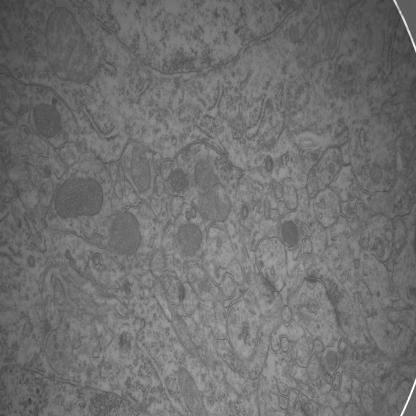mitochondria: (53, 177, 106, 218), (107, 212, 142, 257), (197, 185, 232, 224), (31, 102, 62, 137), (176, 221, 204, 258), (131, 144, 150, 192), (194, 158, 220, 187), (170, 166, 187, 192), (282, 219, 298, 246), (325, 349, 337, 372)
